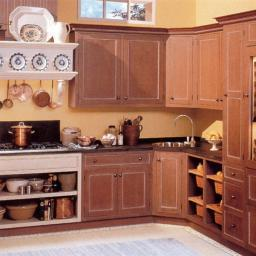Armario: (223, 20, 254, 248)
Lavaplatos: (150, 114, 200, 151)
